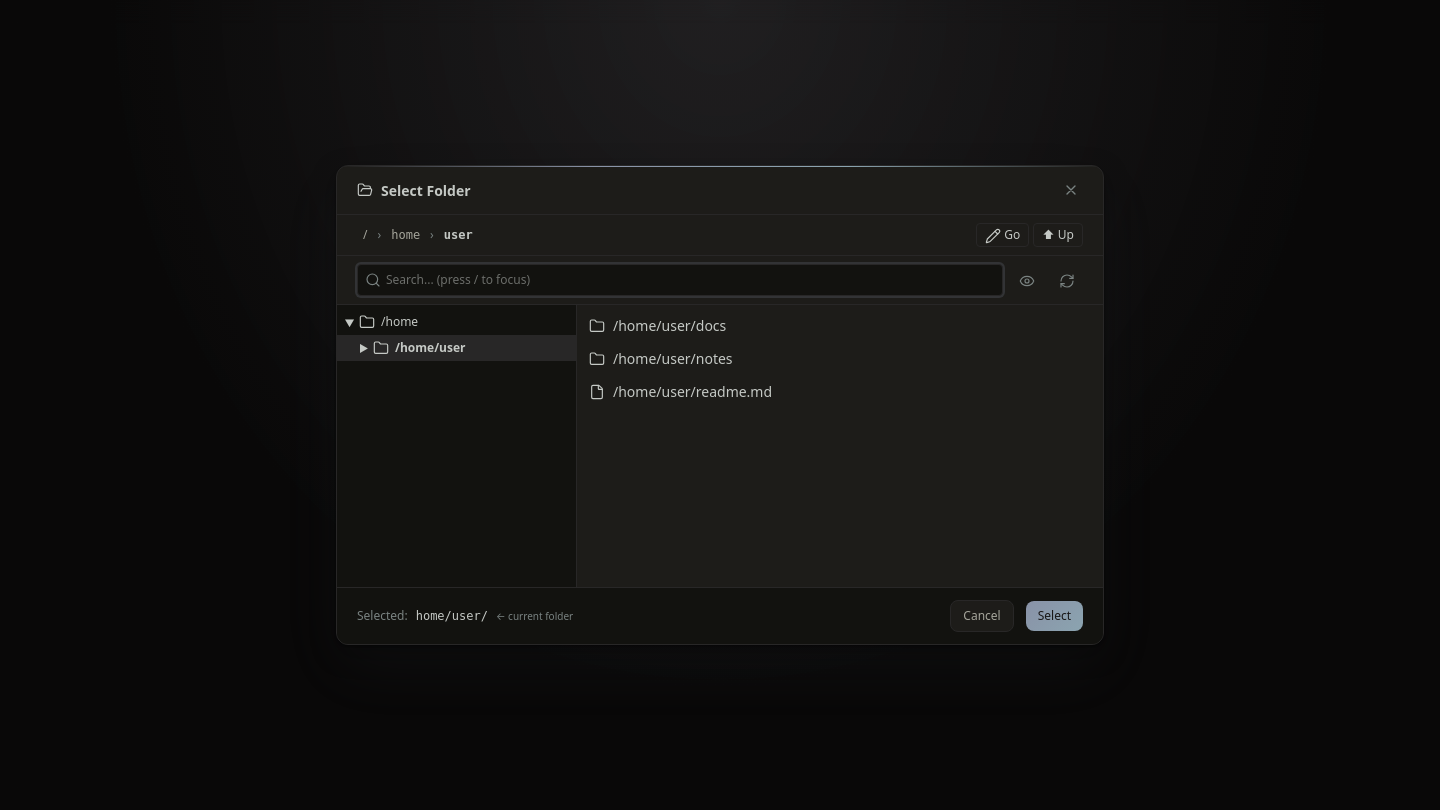
Test case: FilePickerDialog — address bar (type a path) › typing an absolute path and pressing Enter navigates to it
Click the button with test id "file-picker-path-edit".
click(1003, 235)  # box [976,223,1029,247]
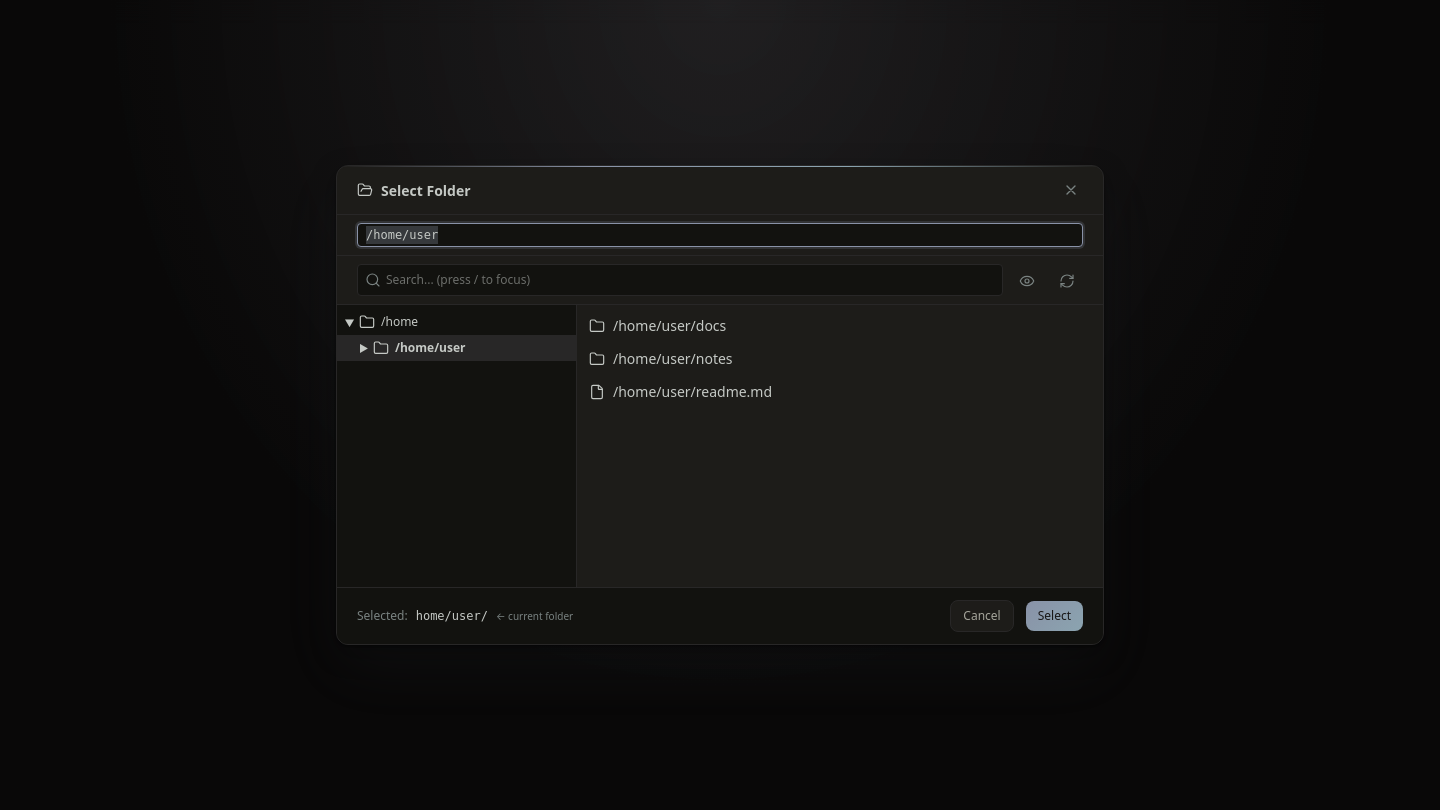
Replace the text in the field with test id "file-picker-path-input" with "/home/user/notes" at point(720, 235), box [357,223,1083,247]
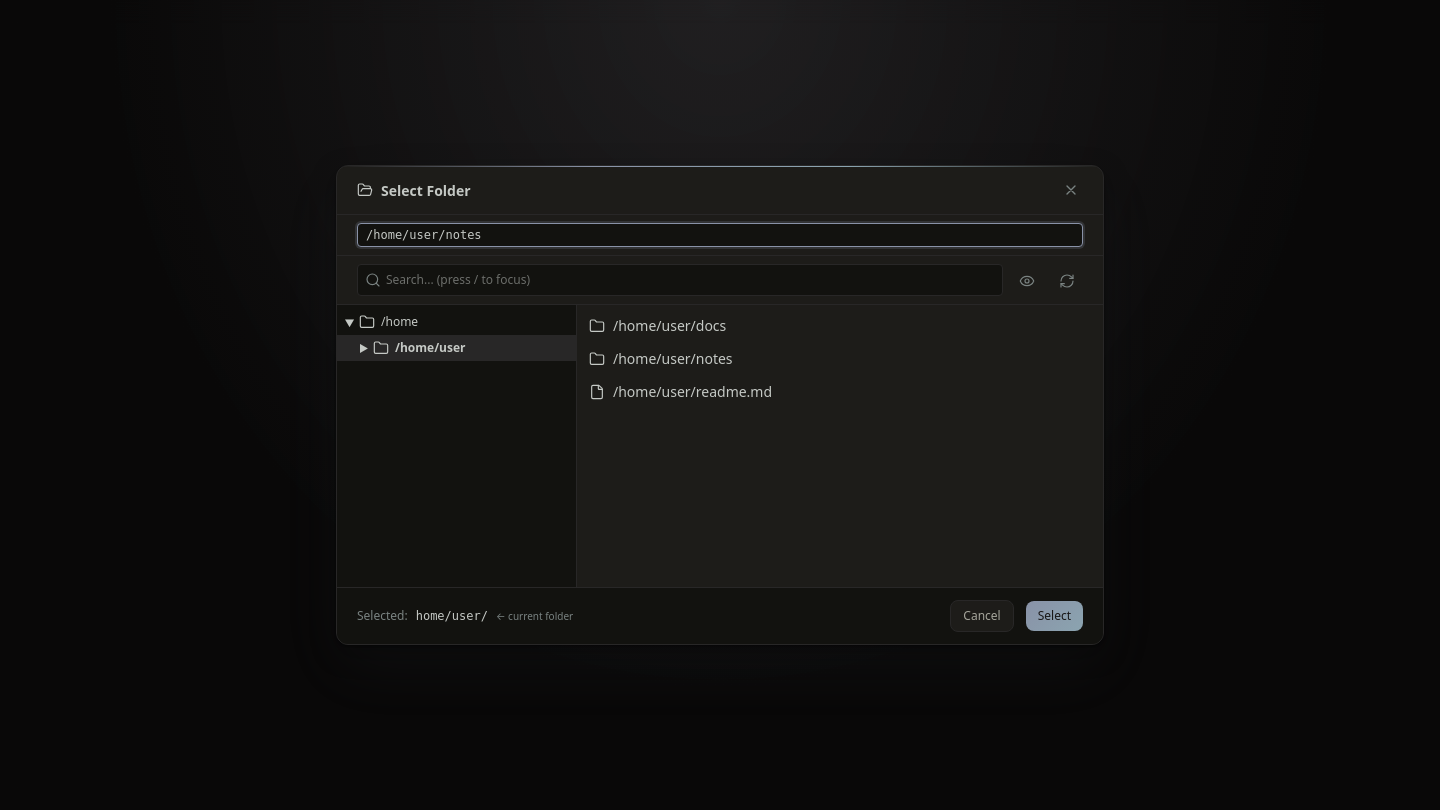
Press Enter in the field with test id "file-picker-path-input", box [357,223,1083,247]
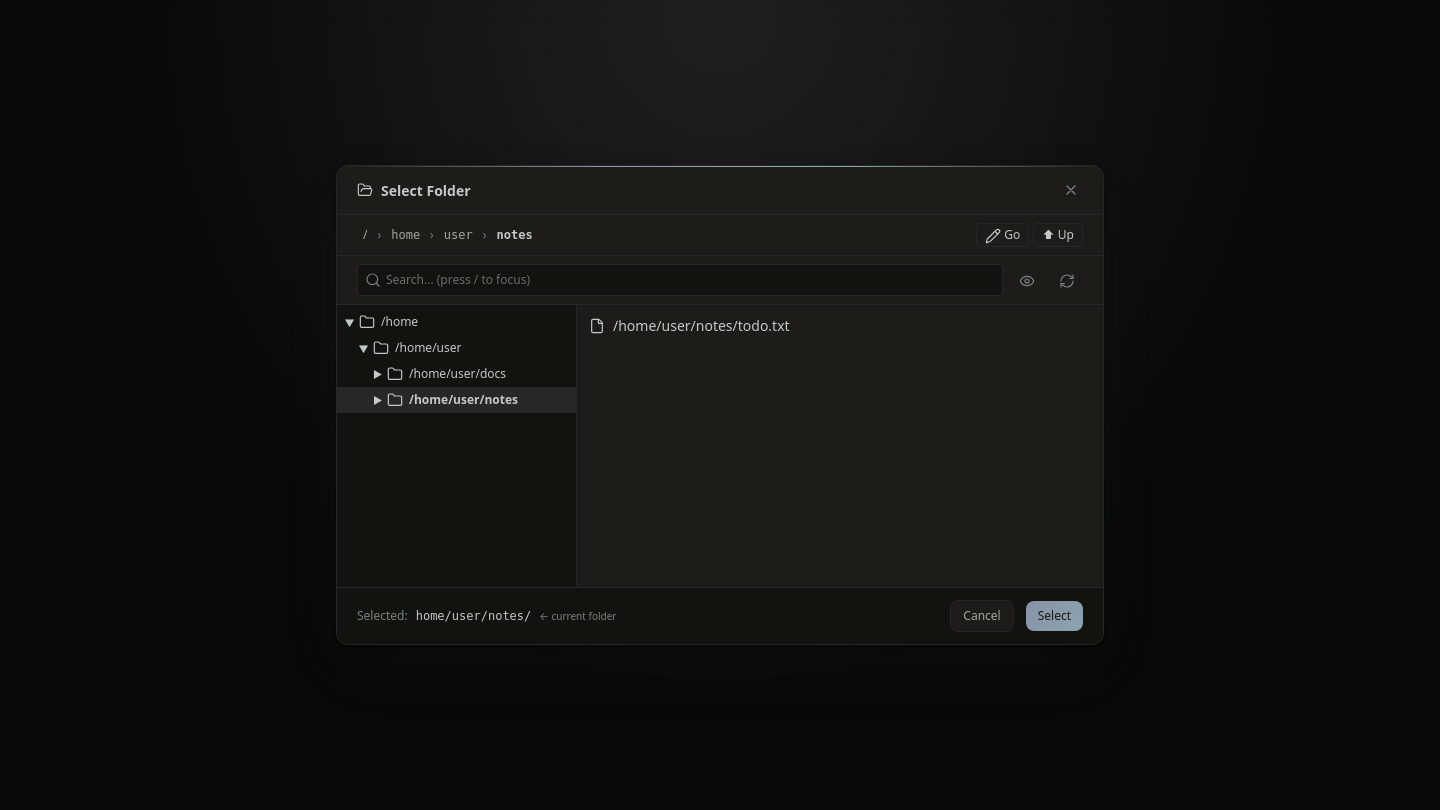
Expected: the button with test id "file-picker-item-/home/user/notes/todo.txt" is shown, [577,309,1103,342]
Expected: the field with test id "file-picker-path-input" is gone
Expected: the button with test id "file-picker-crumb-0" reads "home", [385,224,426,246]
